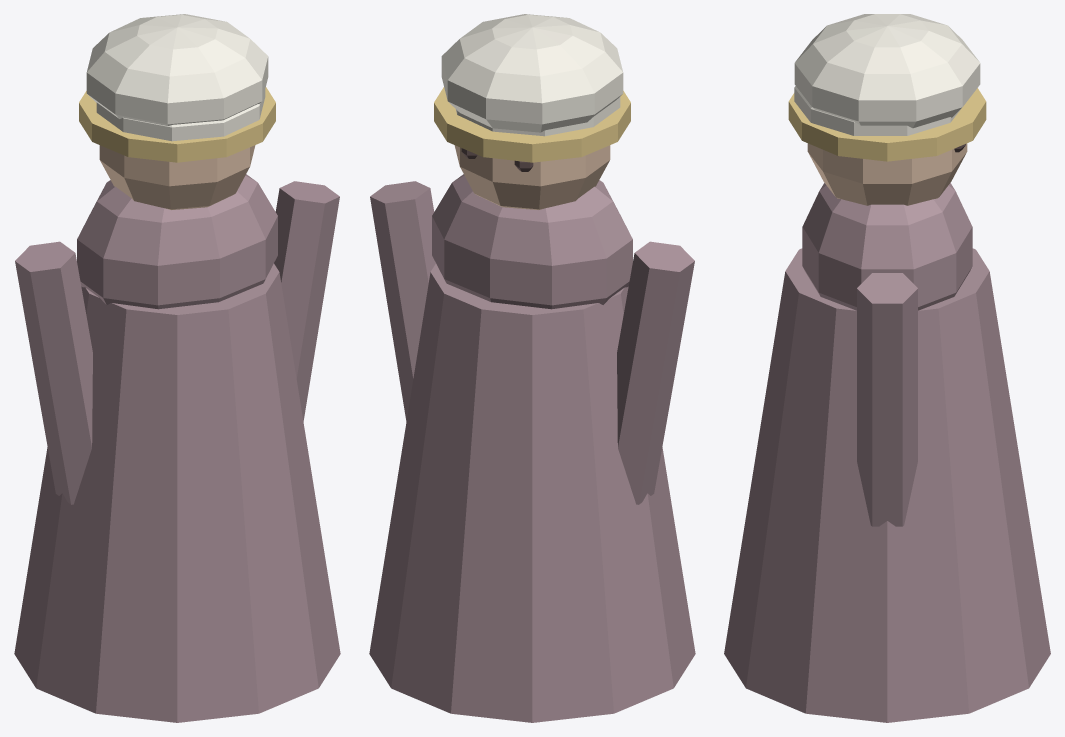
File: merchant.glb
3 views of the same model, side by side, from view 1: azimuth 30°, elevation 25°; view 2: azimuth 150°, elevation 25°; view 3: azimuth 270°, elevation 25° (orthographic).
Visible parts, largest first — view 1: merchant; view 2: merchant; view 3: merchant.
Part boxes in pixels (x1,y1,x2,y2): merchant: (14,14,340,722); merchant: (369,14,695,722); merchant: (724,14,1050,722).
Size of the model in its own units: 0.5367 by 1.04 by 0.4896.
